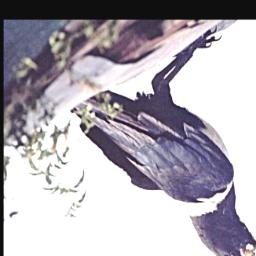Crow: (62, 29, 256, 256)
